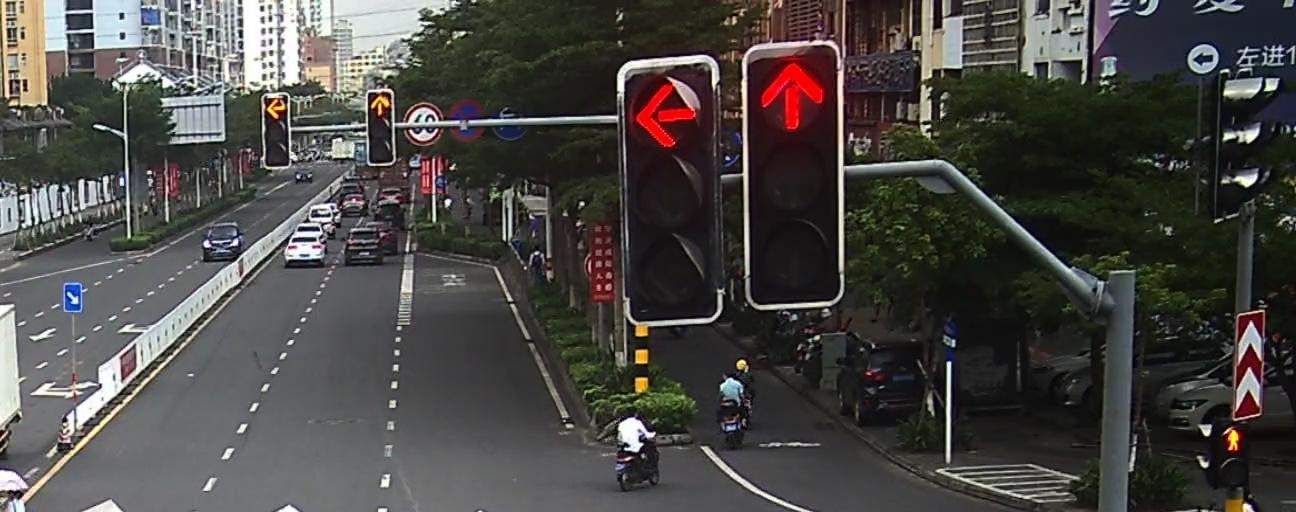redleft: (631, 80, 703, 150), (264, 97, 287, 121)
redpeople: (1222, 426, 1246, 454)
redstraight: (755, 58, 828, 133), (368, 94, 392, 118)
